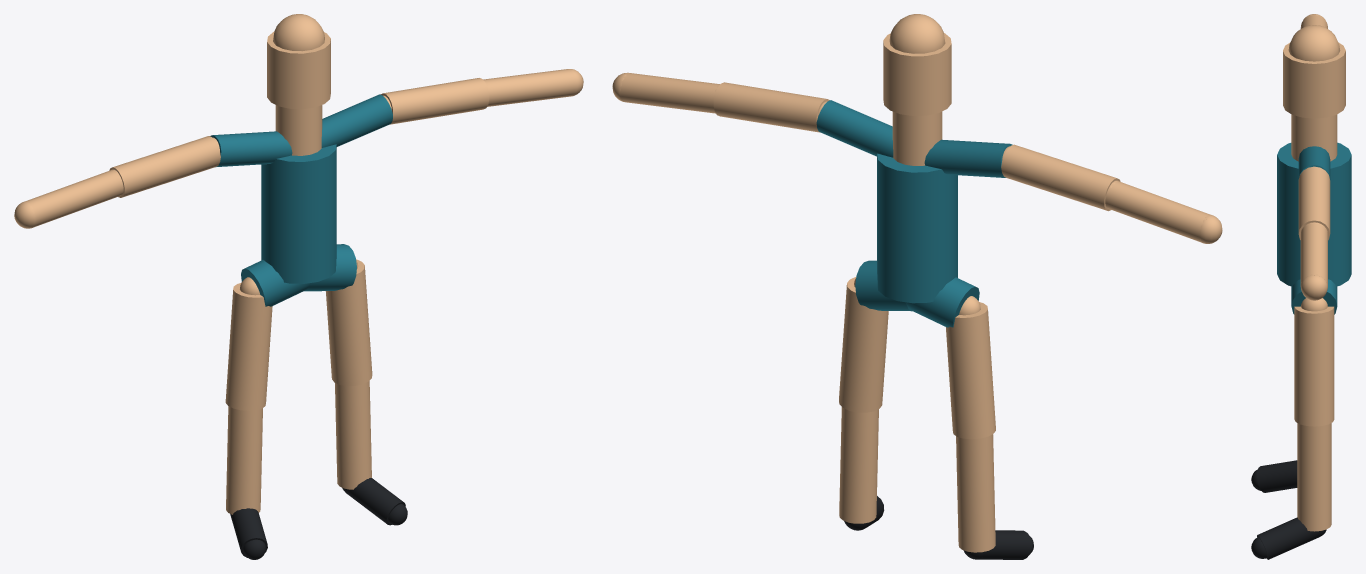
Rendered from posebot.glb.
The picture shows the model from 3 angles, left to right: view 1: azimuth 30°, elevation 25°; view 2: azimuth 150°, elevation 25°; view 3: azimuth 270°, elevation 25°; orthographic projection. The views are drawn at different scales.
Visible parts, largest first — view 1: Segment_Spine, Segment_LeftThigh, Segment_RightThigh, Segment_Head, Segment_LeftShin, Segment_RightShin, Segment_LeftUpperArm, Segment_RightUpperArm, Segment_LeftForeArm, Segment_RightForeArm, Segment_RightClavicle, Segment_LeftClavicle (+6 smaller); view 2: Segment_Spine, Segment_LeftThigh, Segment_RightThigh, Segment_Head, Segment_LeftShin, Segment_RightShin, Segment_LeftUpperArm, Segment_RightUpperArm, Segment_LeftForeArm, Segment_RightForeArm, Segment_RightClavicle, Segment_LeftClavicle (+5 smaller); view 3: Segment_Spine, Segment_RightThigh, Segment_Head, Segment_RightShin, Segment_RightUpperArm, Segment_Neck, Joint_Head, Segment_RightForeArm, Segment_RightFoot, Segment_LeftFoot, Segment_RightClavicle, Segment_RightHip (+4 smaller).
Part boxes in pixels (x1,y1,x2,y2): Segment_Spine: [261, 144, 336, 283]; Segment_LeftThigh: [225, 283, 272, 410]; Segment_RightThigh: [325, 259, 372, 386]; Segment_Head: [267, 32, 330, 109]; Segment_LeftShin: [226, 406, 262, 514]; Segment_RightShin: [335, 381, 371, 489]; Segment_LeftUpperArm: [109, 136, 220, 197]; Segment_RightUpperArm: [380, 78, 489, 124]; Segment_LeftForeArm: [24, 169, 123, 226]; Segment_RightForeArm: [483, 69, 576, 106]; Segment_RightClavicle: [321, 94, 392, 147]; Segment_LeftClavicle: [210, 131, 292, 167]; Segment_Spine: [877, 153, 957, 303]; Segment_LeftThigh: [946, 302, 995, 439]; Segment_RightThigh: [839, 277, 888, 412]; Segment_Head: [883, 33, 951, 115]; Segment_LeftShin: [956, 434, 995, 552]; Segment_RightShin: [839, 407, 878, 523]; Segment_LeftUpperArm: [1001, 144, 1120, 211]; Segment_RightUpperArm: [713, 82, 829, 132]; Segment_LeftForeArm: [1105, 180, 1211, 242]; Segment_RightForeArm: [619, 73, 719, 113]; Segment_RightClavicle: [816, 100, 893, 157]; Segment_LeftClavicle: [924, 139, 1012, 177]; Segment_Spine: [1277, 142, 1351, 286]; Segment_RightThigh: [1294, 306, 1334, 426]; Segment_Head: [1283, 42, 1345, 118]; Segment_RightShin: [1297, 423, 1331, 531]; Segment_RightUpperArm: [1298, 166, 1330, 240]; Segment_Neck: [1291, 114, 1337, 161]; Joint_Head: [1288, 25, 1340, 61]; Segment_RightForeArm: [1300, 222, 1327, 286]; Segment_RightFoot: [1257, 517, 1319, 559]; Segment_LeftFoot: [1257, 460, 1297, 492]; Segment_RightClavicle: [1298, 146, 1330, 179]; Segment_RightHip: [1291, 279, 1337, 314].
Size of the model in its own units: 2.24 by 1.92 by 0.35.
